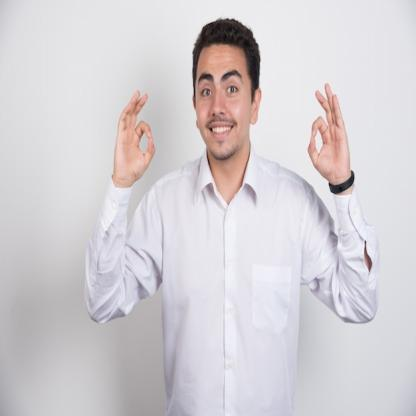ok: (108, 86, 158, 186), (304, 80, 352, 184)
